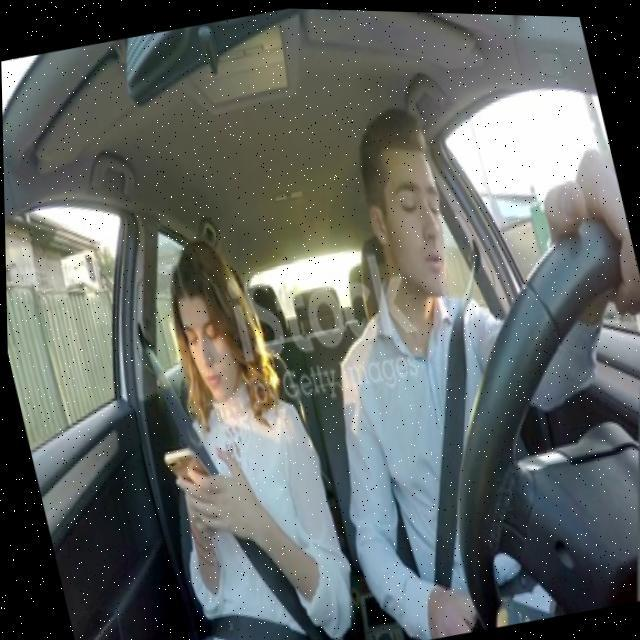PhoneCall: (158, 436, 214, 510)
